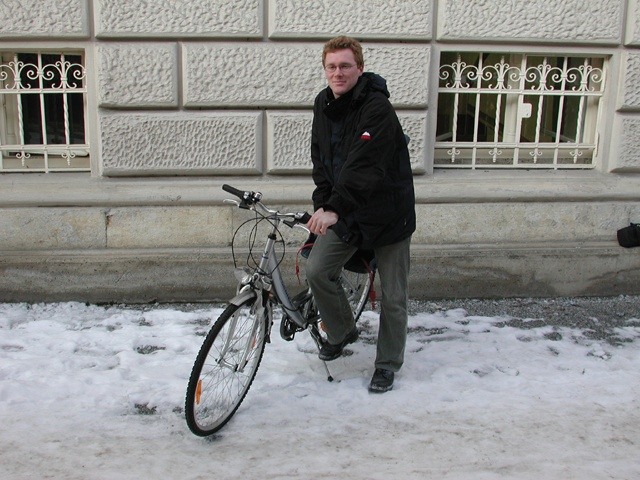person: (297, 36, 418, 395)
